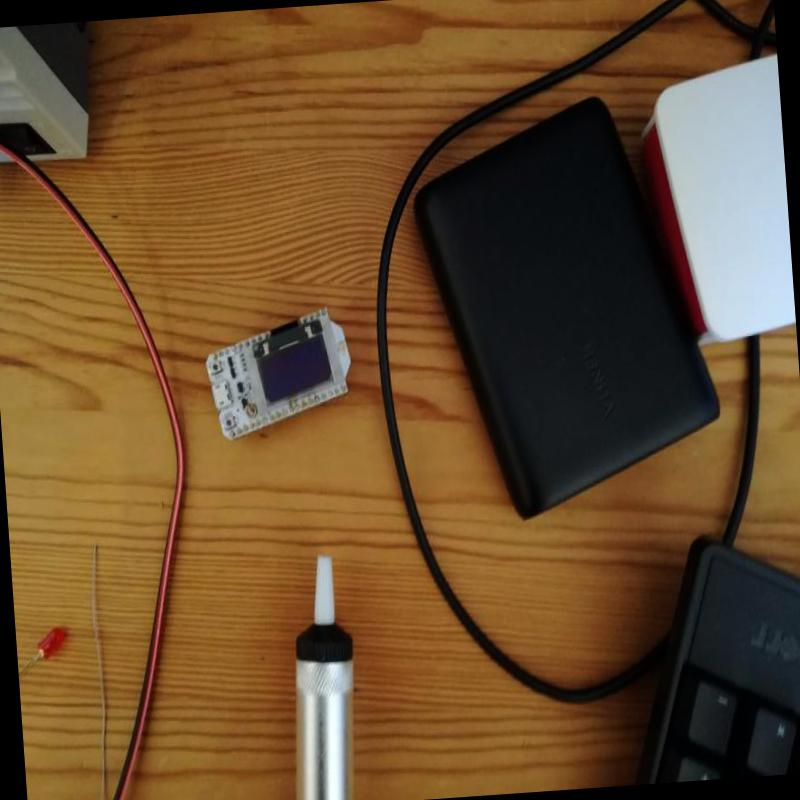Heltec_ESP32_Lora: (202, 299, 365, 447)
